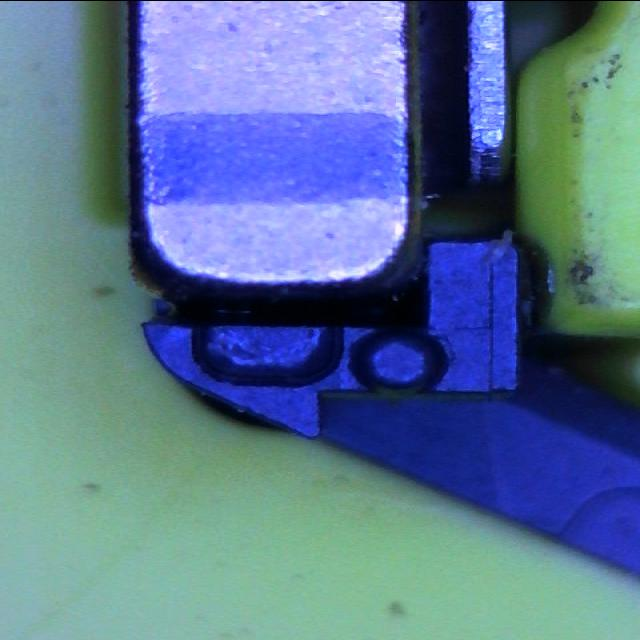lacking: (188, 314, 344, 386)
